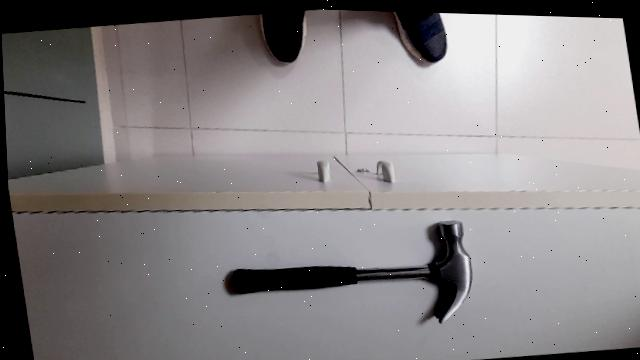hammer: (211, 205, 498, 333)
